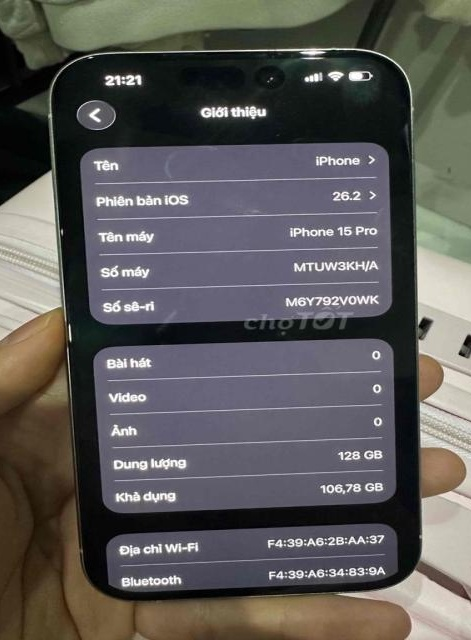scratch: (61, 319, 75, 347), (55, 223, 67, 239), (72, 545, 87, 554), (417, 533, 426, 543)
